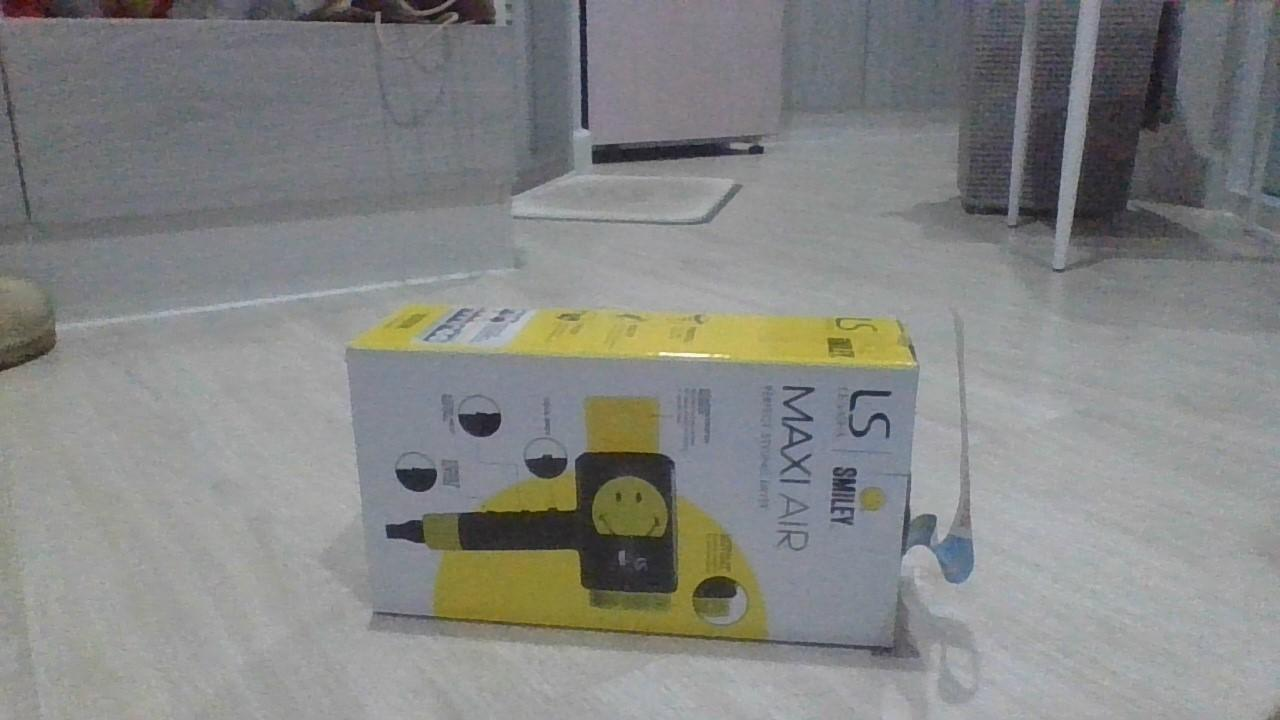Dryer: (340, 297, 926, 654)
